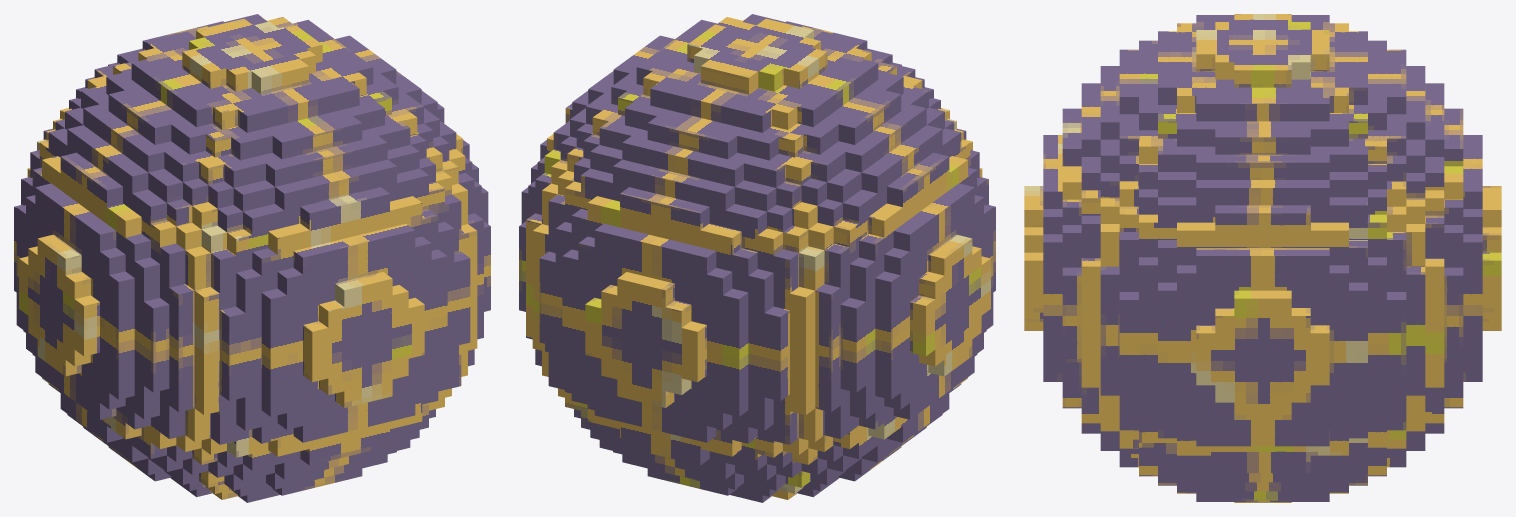
File: attraction.glb
The picture shows the model from 3 angles, left to right: view 1: azimuth 30°, elevation 25°; view 2: azimuth 150°, elevation 25°; view 3: azimuth 270°, elevation 25°; orthographic projection. The views are drawn at different scales.
Parts seen in each view (by area): view 1: AttractionBall_01.001; view 2: AttractionBall_01.001; view 3: AttractionBall_01.001.
Part boxes in pixels (box(x1,y1,x2,y2)): AttractionBall_01.001: box(14, 14, 490, 502); AttractionBall_01.001: box(519, 14, 995, 502); AttractionBall_01.001: box(1024, 14, 1501, 502).
Size of the model in its own units: 2.5 by 2.5 by 2.5.
Materials: 1 (1 with a texture image).
